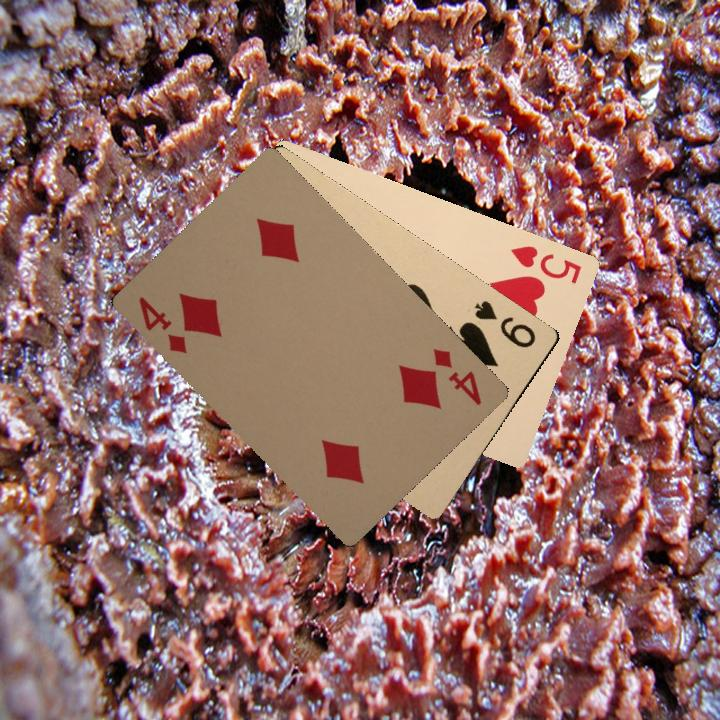4d: (428, 344, 484, 408), (134, 292, 190, 356)
5h: (506, 241, 584, 287)
9s: (469, 296, 539, 351)
